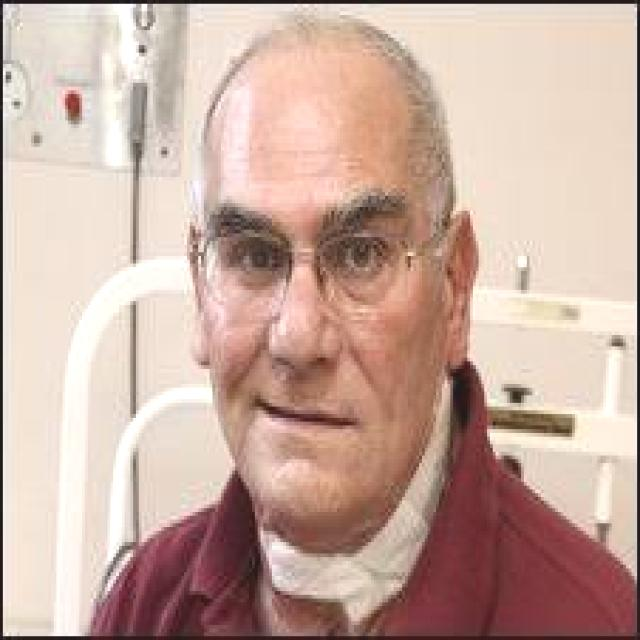stroke_face: (184, 73, 447, 547)
